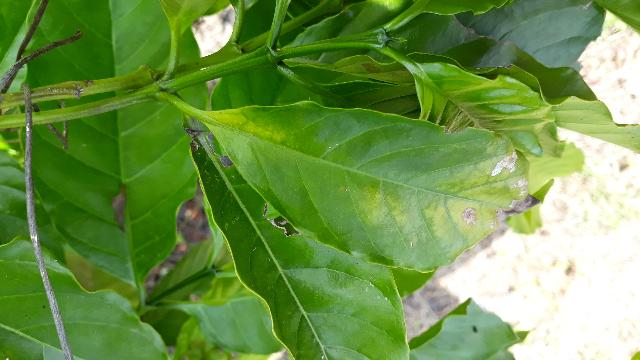rust_level_1: (196, 101, 554, 273)
